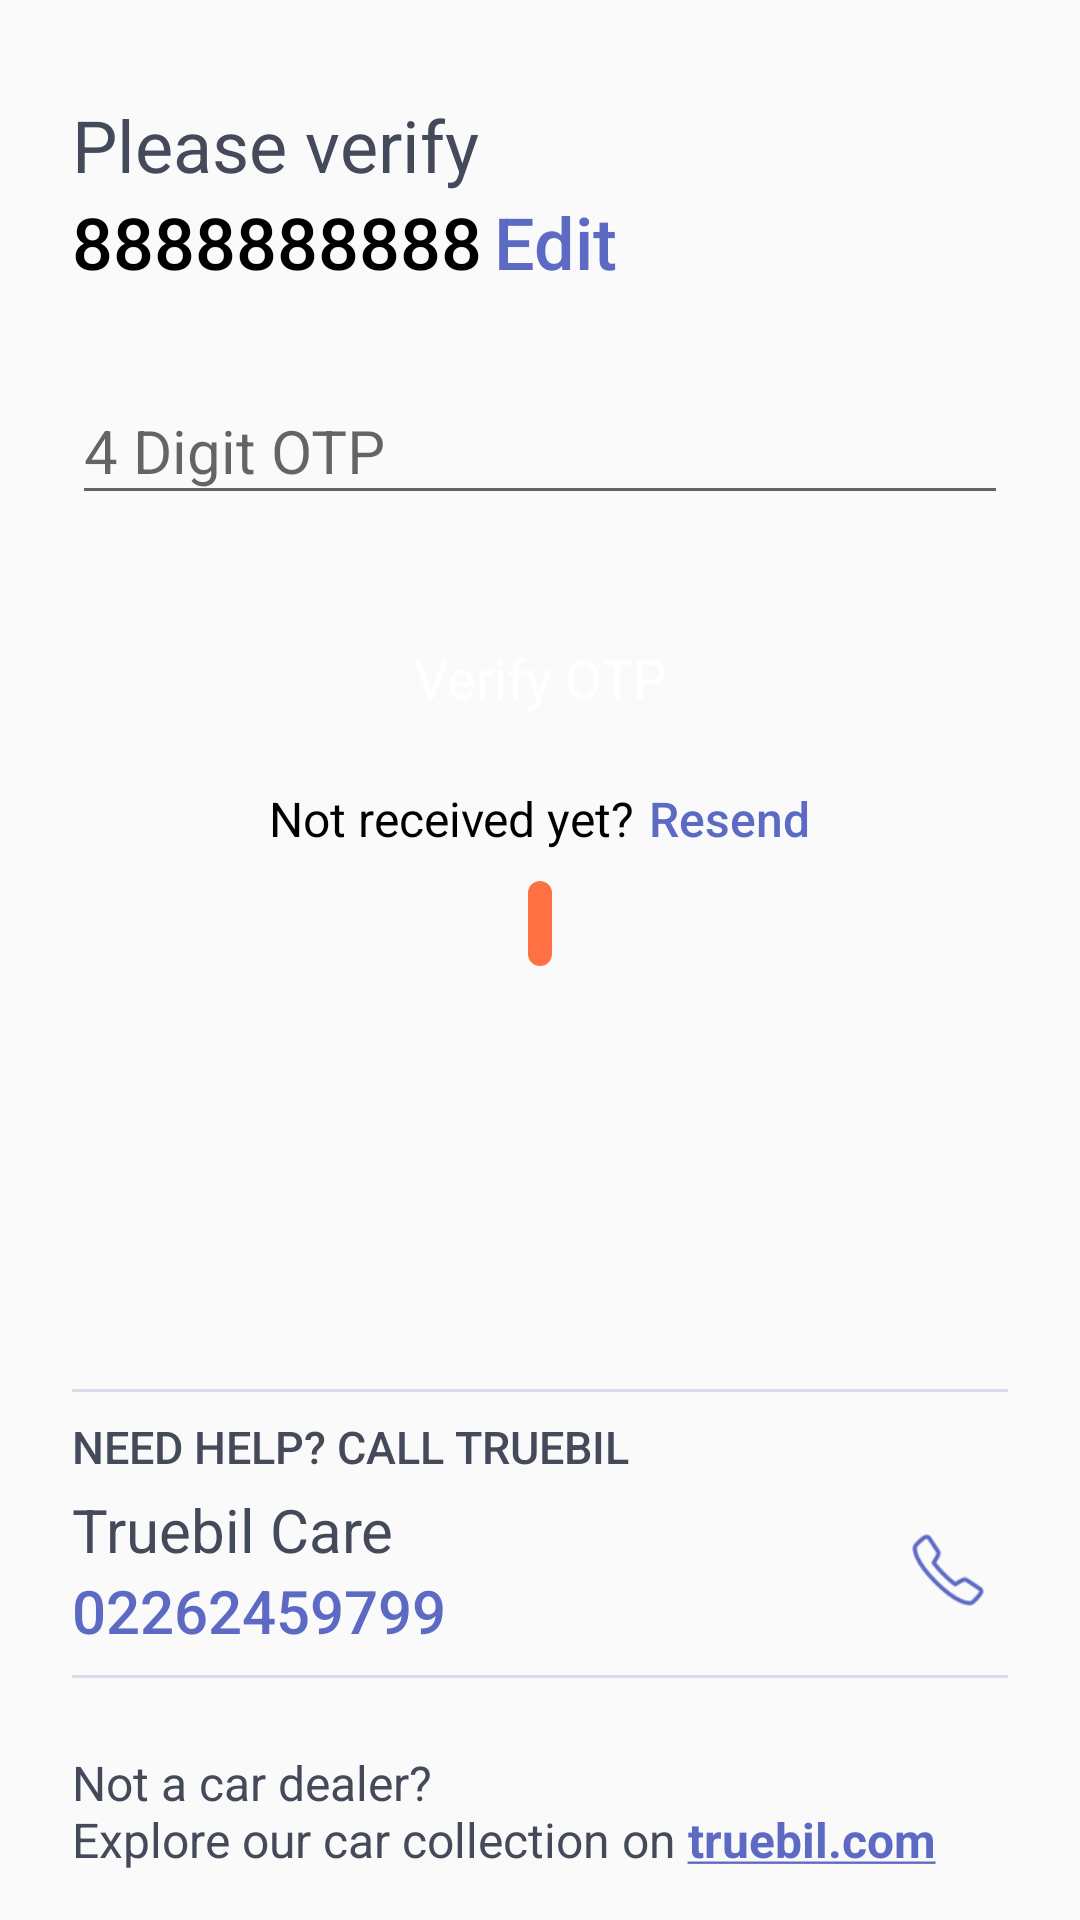

Locate icon controls on the screen. Image size 1080×1920, boxes as [x1,y1,x2,y2].
phone: [912,1534,984,1606]
